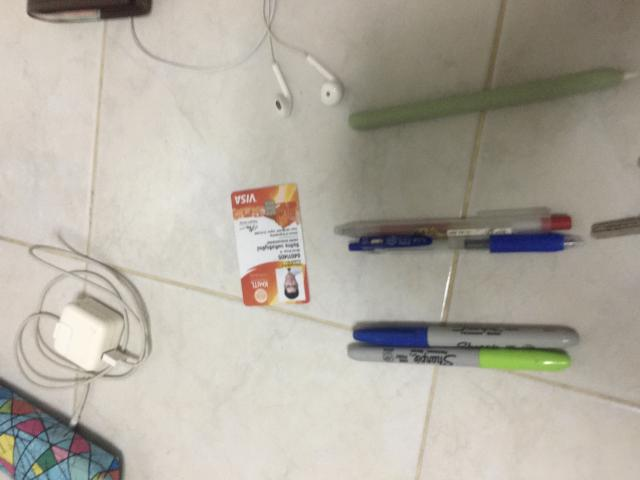Keys: (591, 216, 640, 239)
Pen: (348, 322, 579, 371), (335, 208, 571, 239), (349, 234, 580, 252)
Wallet: (28, 0, 151, 22)
wire: (15, 235, 151, 426), (262, 0, 344, 118)
